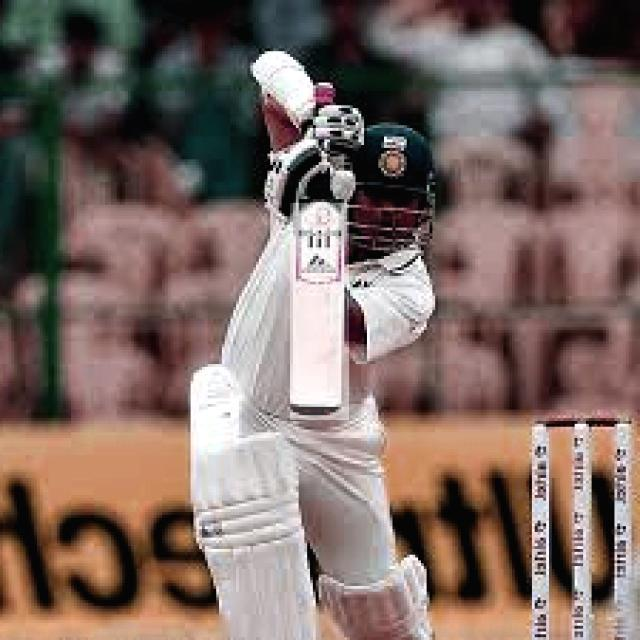bat: (291, 203, 347, 415)
toe: (292, 405, 340, 417)
